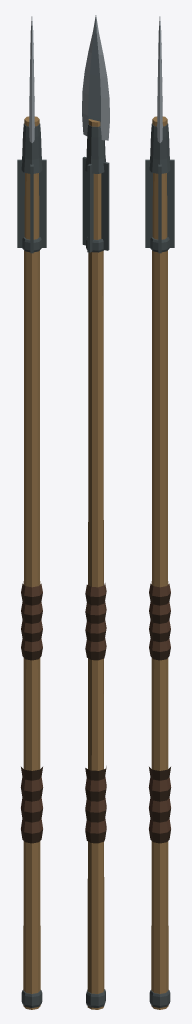
Rendered from spear-D78s3Lp4.glb.
The picture shows the model from 3 angles, left to right: view 1: azimuth 90°, elevation 25°; view 2: azimuth 150°, elevation 25°; view 3: azimuth 270°, elevation 25°; orthographic projection.
Visible parts, largest first — view 1: Object_4; view 2: Object_4; view 3: Object_4.
Boxes of the visible parts, box(x1,y1,x2,y2) form: Object_4: box(17, 16, 46, 1009); Object_4: box(82, 15, 109, 1009); Object_4: box(145, 16, 174, 1009).
Size of the model in its own units: 0.0564 by 1.9 by 0.0507.
1 material, 1 textured.
